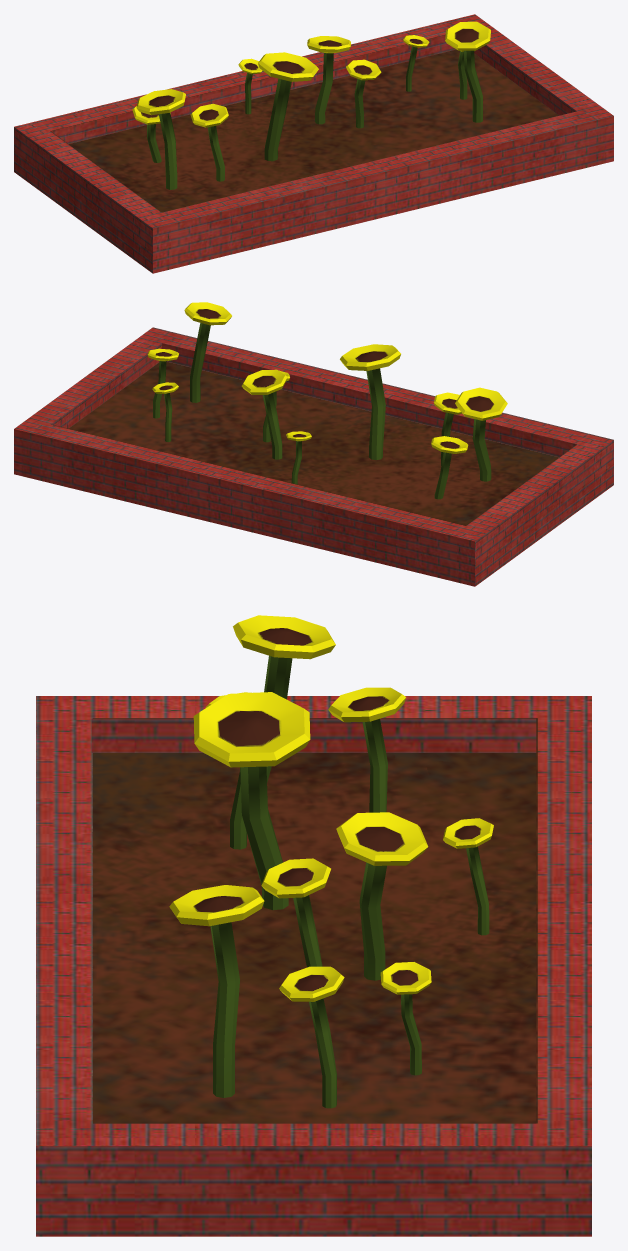
The model's file is Flowers.fbx.
The picture shows the model from 3 angles, top to bottom: view 1: azimuth 30°, elevation 25°; view 2: azimuth 150°, elevation 25°; view 3: azimuth 270°, elevation 25°; orthographic projection. The views are drawn at different scales.
Visible parts, largest first — view 1: pCylinder10; view 2: pCylinder10; view 3: pCylinder10.
Boxes of the visible parts, <box> form: pCylinder10: <box>14,14,613,273</box>; pCylinder10: <box>14,302,613,586</box>; pCylinder10: <box>36,615,591,1236</box>.
Bounding box in the file's own units: 365 × 97.6 × 191.
2 materials, 2 textured.
